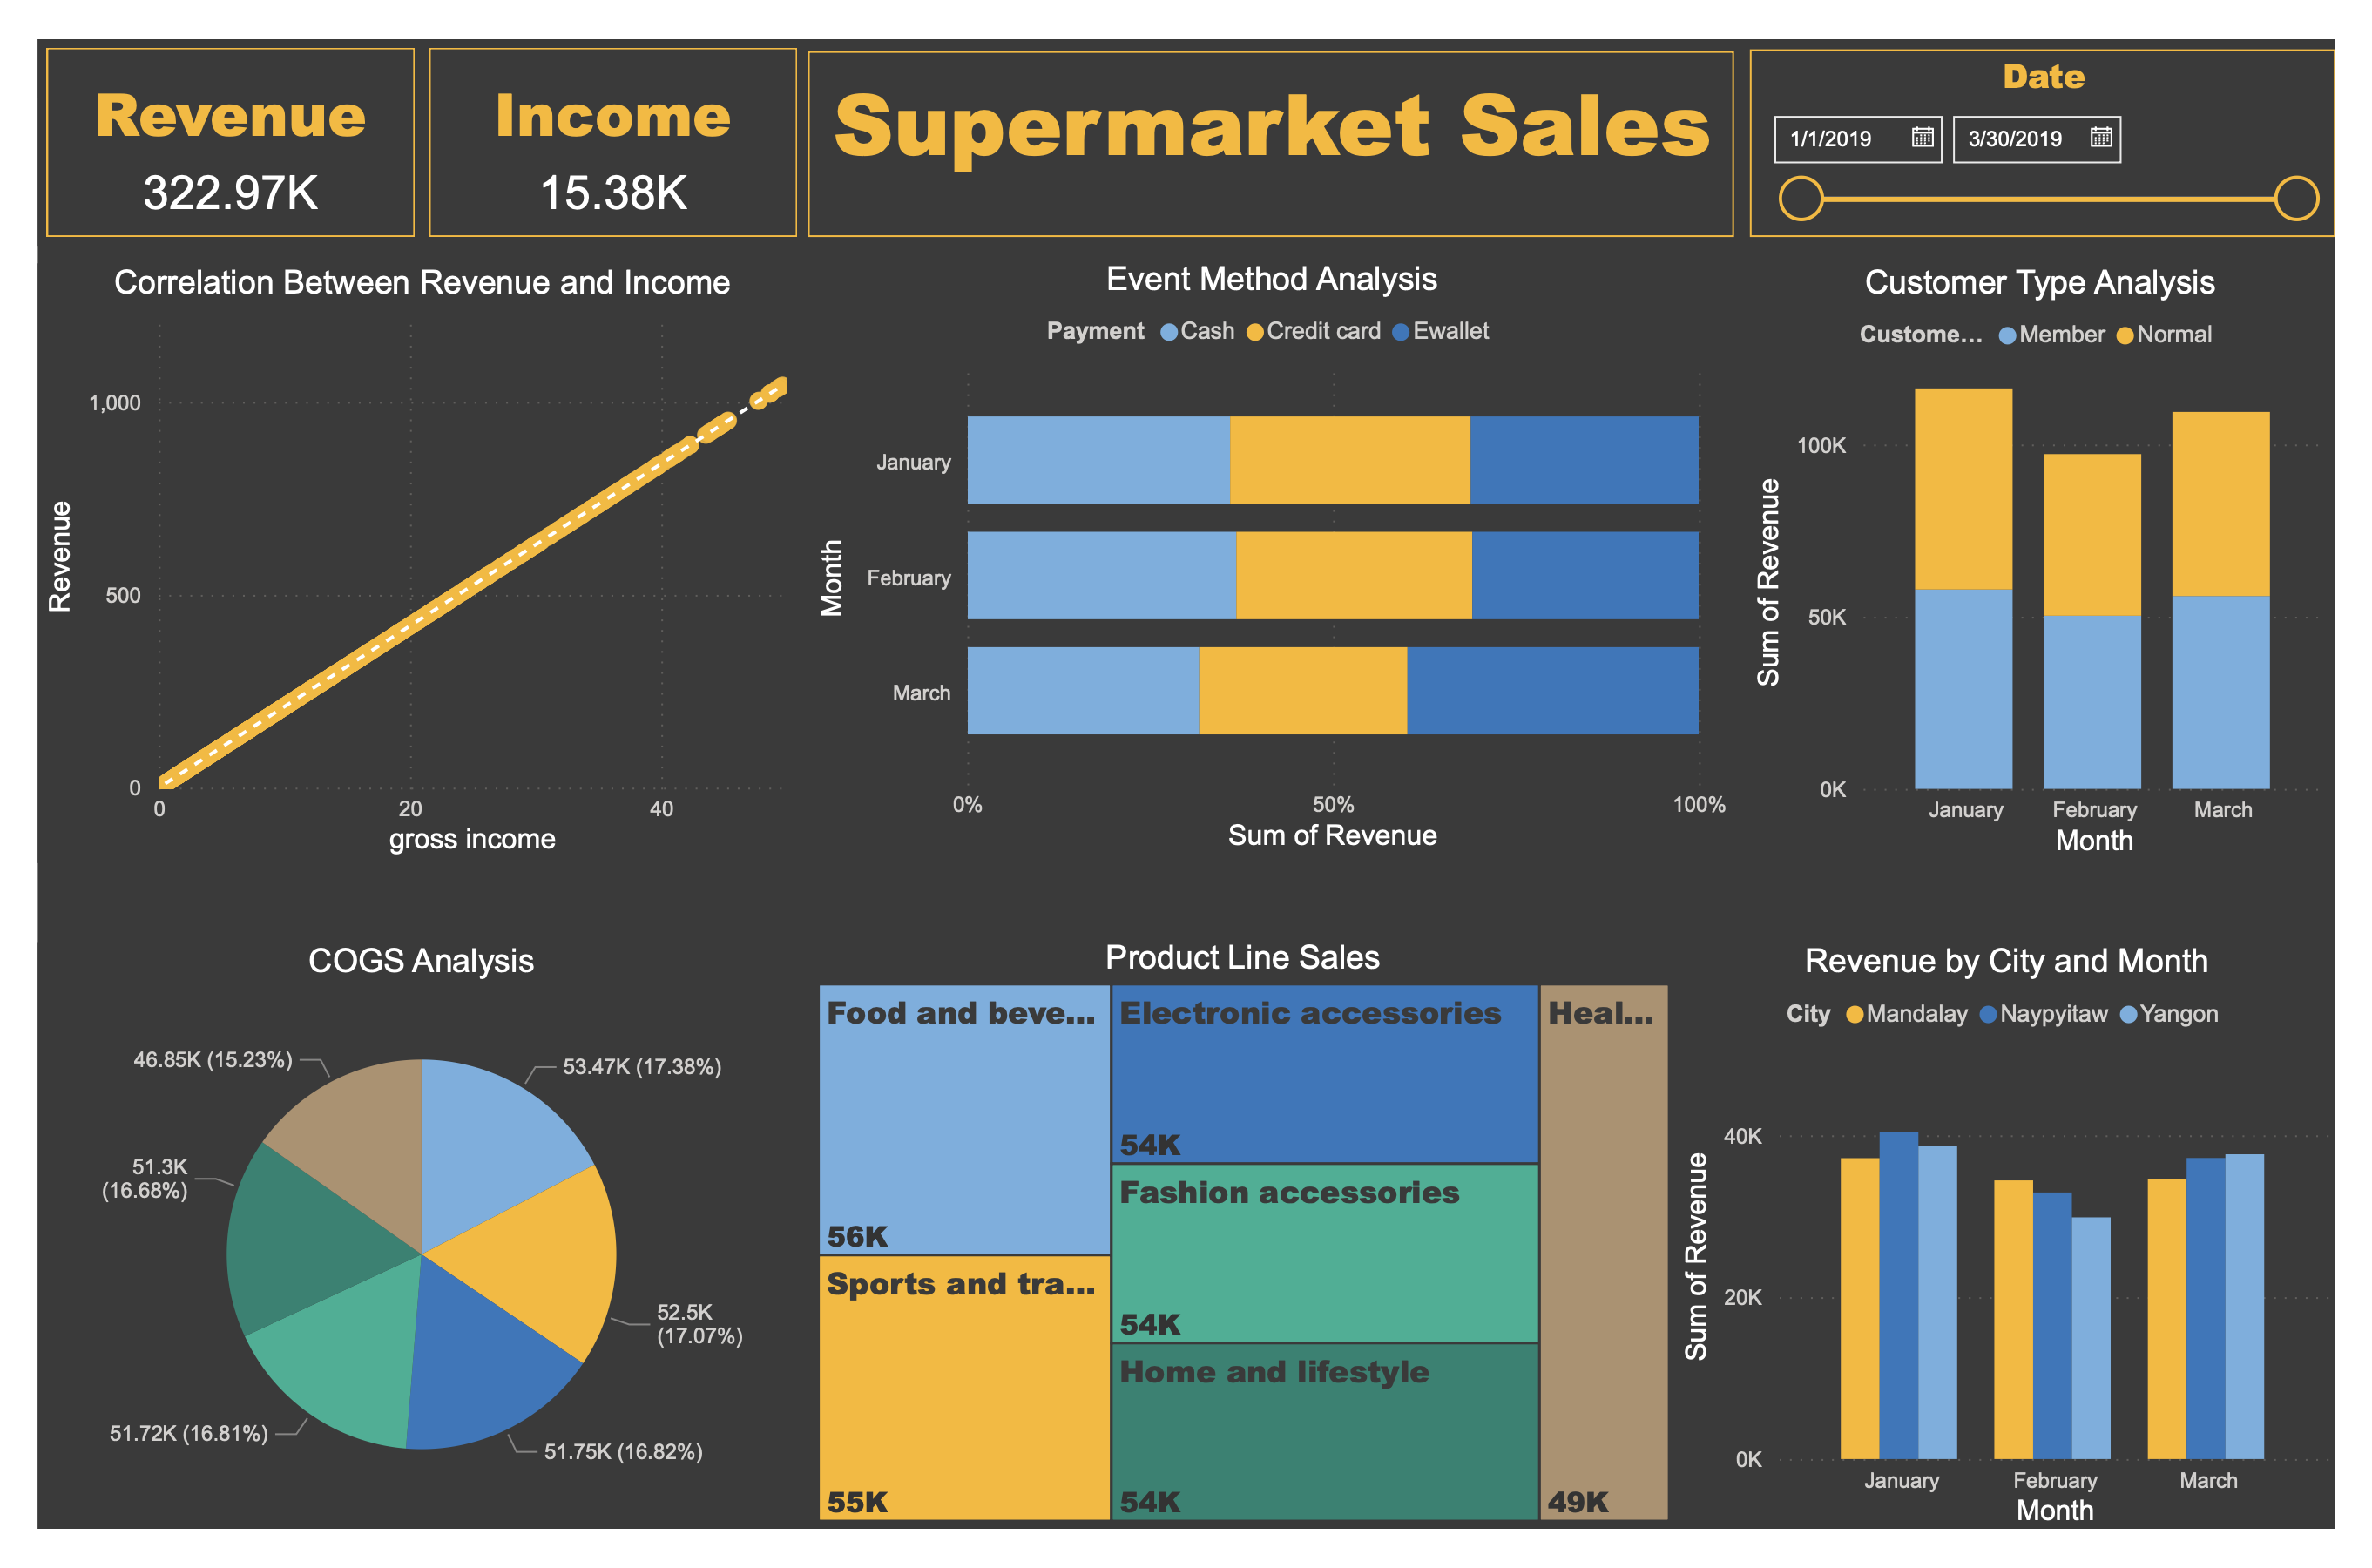

This screenshot's page, from the dashboard's own definition file:
{"tool":"powerbi","page":{"name":"Page 1","canvas":[1310,850],"ordinal":0},"visuals":[{"type":"treemap","title":"Product Line Sales","fields":{"Group":["supermarket_sales - Sheet1 4.Product line"],"Values":["Sum(supermarket_sales - Sheet1 4.Revenue)"]},"box":[440,512.5,495,337.5],"z":0},{"type":"textbox","box":[439.5,6.6,527.6,106.6],"z":1000},{"type":"clusteredColumnChart","title":"Revenue by City and Month","fields":{"Category":["supermarket_sales - Sheet1 4.Date.Variation.Date Hierarchy.Month"],"Y":["Sum(supermarket_sales - Sheet1 4.Revenue)"],"Series":["supermarket_sales - Sheet1 4.City"]},"box":[932.5,515,380,337.5],"z":2000},{"type":"slicer","title":"Date","fields":{"Values":["supermarket_sales - Sheet1 4.Date"]},"box":[975.6,6.4,334.6,106.4],"z":3000},{"type":"pieChart","title":"COGS Analysis","fields":{"Y":["Sum(supermarket_sales - Sheet1 4.cogs)"],"Category":["supermarket_sales - Sheet1 4.Product line"]},"box":[0,515,437.5,335],"z":4000},{"type":"hundredPercentStackedBarChart","title":"Event Method Analysis","fields":{"Category":["supermarket_sales - Sheet1 4.Date.Variation.Date Hierarchy.Month","supermarket_sales - Sheet1 4.Date.Variation.Date Hierarchy.Day"],"Y":["Sum(supermarket_sales - Sheet1 4.Revenue)"],"Series":["supermarket_sales - Sheet1 4.Payment"]},"box":[440,145,527.5,342.5],"z":5000},{"type":"columnChart","title":"Customer Type Analysis","fields":{"Category":["supermarket_sales - Sheet1 4.Date.Variation.Date Hierarchy.Month"],"Y":["Sum(supermarket_sales - Sheet1 4.Revenue)"],"Series":["supermarket_sales - Sheet1 4.Customer type"]},"box":[974.1,128.2,335.9,342.3],"z":6000},{"type":"cardVisual","fields":{"Data":["Sum(supermarket_sales - Sheet1 4.Revenue)","Sum(supermarket_sales - Sheet1 4.gross income)"]},"box":[0,0,438.2,118.4],"z":7000},{"type":"scatterChart","title":"Correlation Between Revenue and Income","fields":{"X":["supermarket_sales - Sheet1 4.gross income"],"Y":["supermarket_sales - Sheet1 4.Revenue"]},"box":[0,128.2,439,341.8],"z":8000}]}

Visuals, with their boxes in screenshot pixels (x1, y1, x2, y2), scaled from the page's 1310x850 canvas onto the 2372x1568 screenshot:
"Product Line Sales" treemap: bbox(797, 945, 1693, 1567)
textbox: bbox(796, 12, 1751, 209)
"Revenue by City and Month" clusteredColumnChart: bbox(1688, 950, 2371, 1567)
"Date" slicer: bbox(1767, 12, 2371, 208)
"COGS Analysis" pieChart: bbox(0, 950, 792, 1567)
"Event Method Analysis" hundredPercentStackedBarChart: bbox(797, 267, 1752, 899)
"Customer Type Analysis" columnChart: bbox(1764, 236, 2371, 868)
cardVisual - Sum(supermarket_sales - Sheet1 4.Revenue) x Sum(supermarket_sales - Sheet1 4.gross income): bbox(0, 0, 794, 219)
"Correlation Between Revenue and Income" scatterChart: bbox(0, 236, 795, 867)
